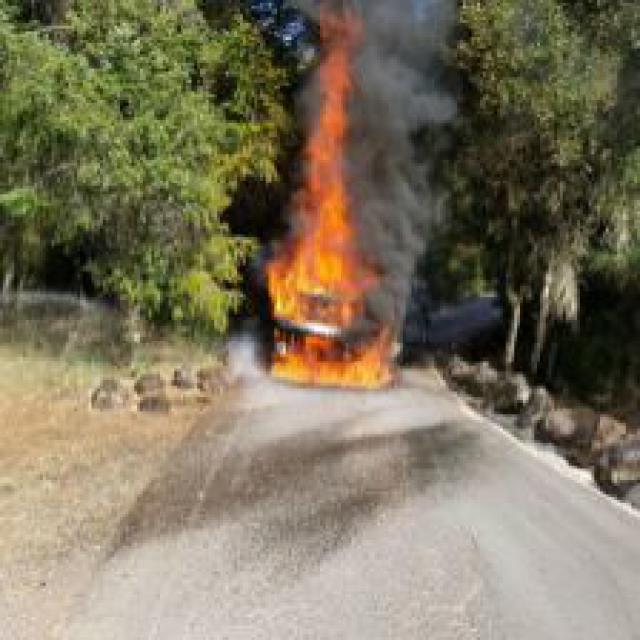fire: (251, 23, 426, 400)
